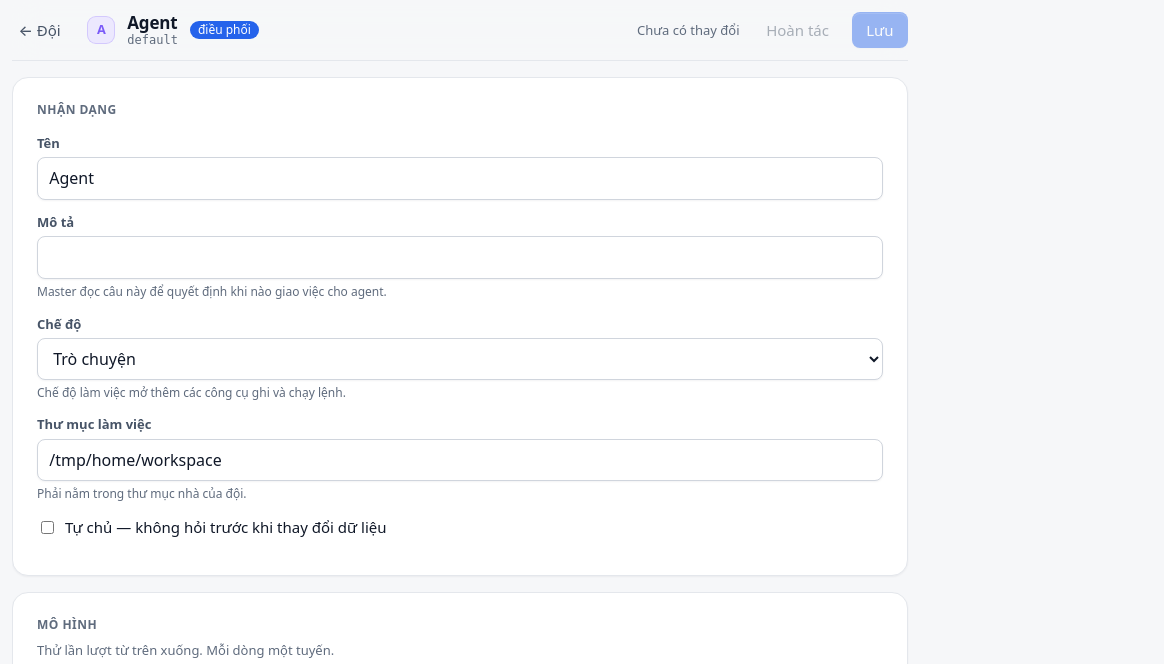
Test: the line under the autonomy tick that says nobody will be asked › appears when autonomy is ticked on an agent whose scripts may already change things
Click the checkbox labelled "Tự chủ — không hỏi trước khi thay đổi dữ liệu".
click(48, 528)  # box [41,521,54,534]
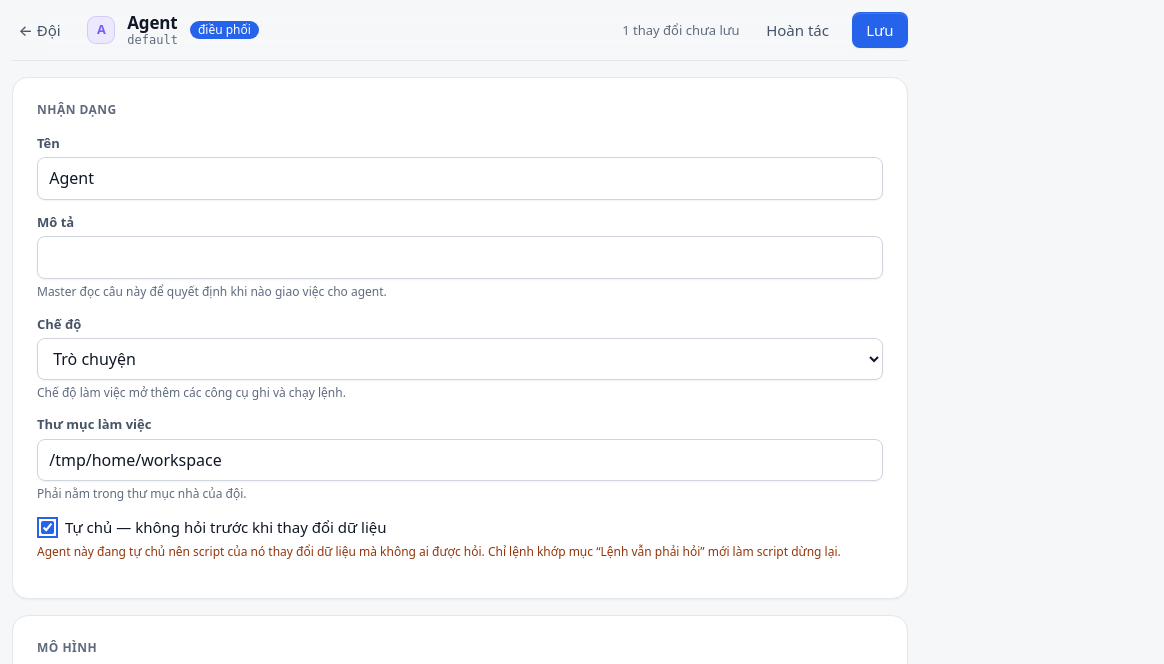
Click the checkbox labelled "Tự chủ — không hỏi trước khi thay đổi dữ liệu".
click(48, 528)  # box [41,521,54,534]
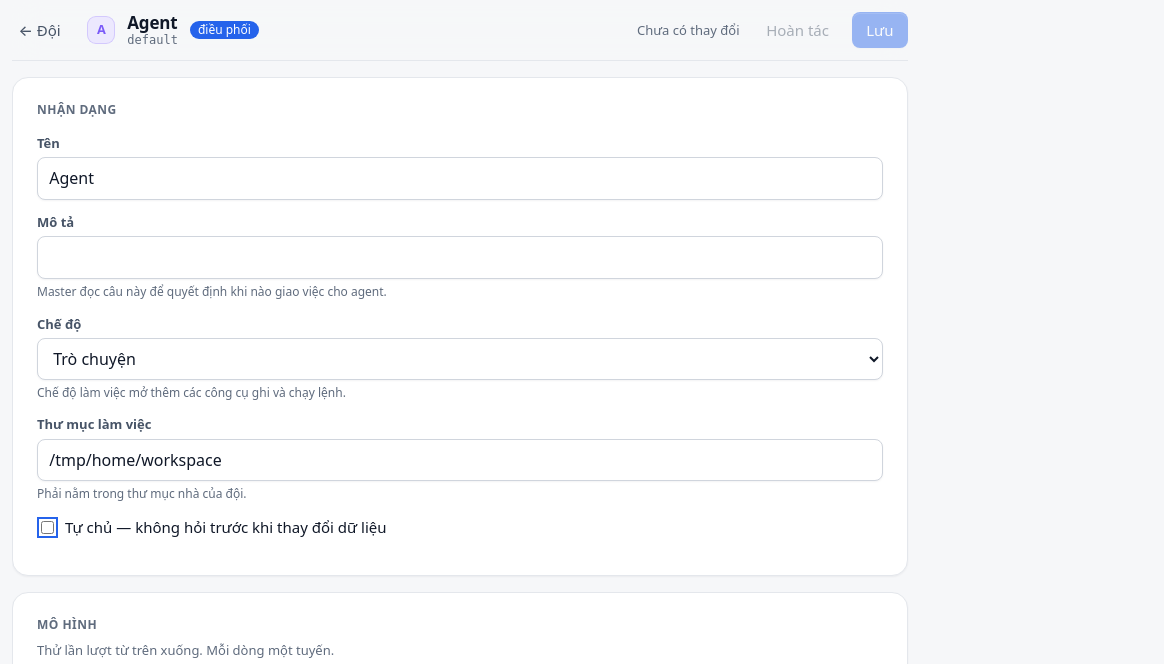
Result: the text "Agent này đang tự chủ nên script của nó thay đổi dữ liệu mà không ai được hỏi. Chỉ lệnh khớp mục “Lệnh vẫn phải hỏi” mới" is gone
